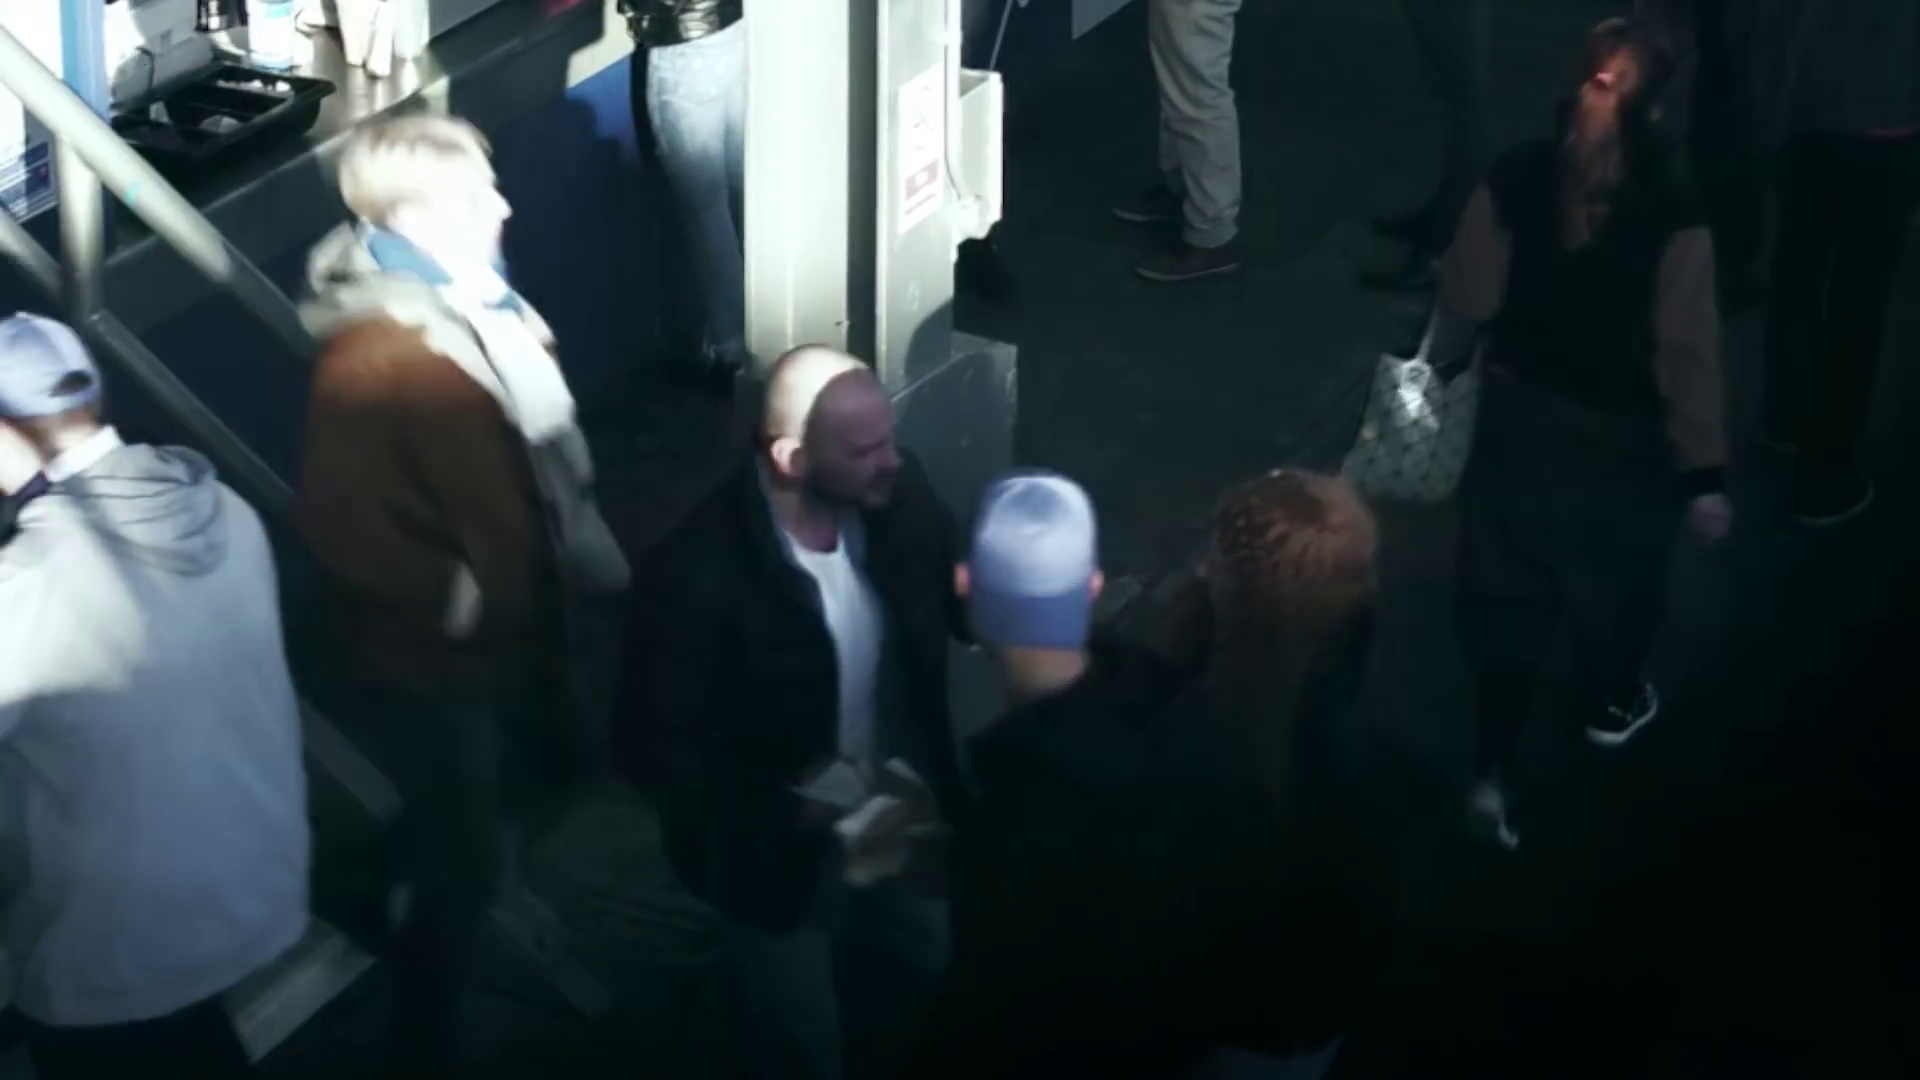face: (817, 414, 899, 505)
